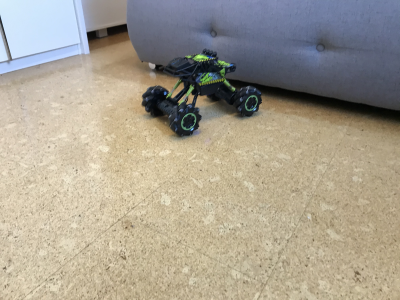remote control car: (139, 46, 264, 139)
